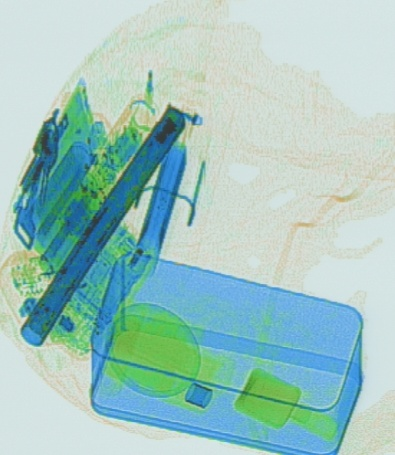nailpolish: (232, 366, 339, 444)
